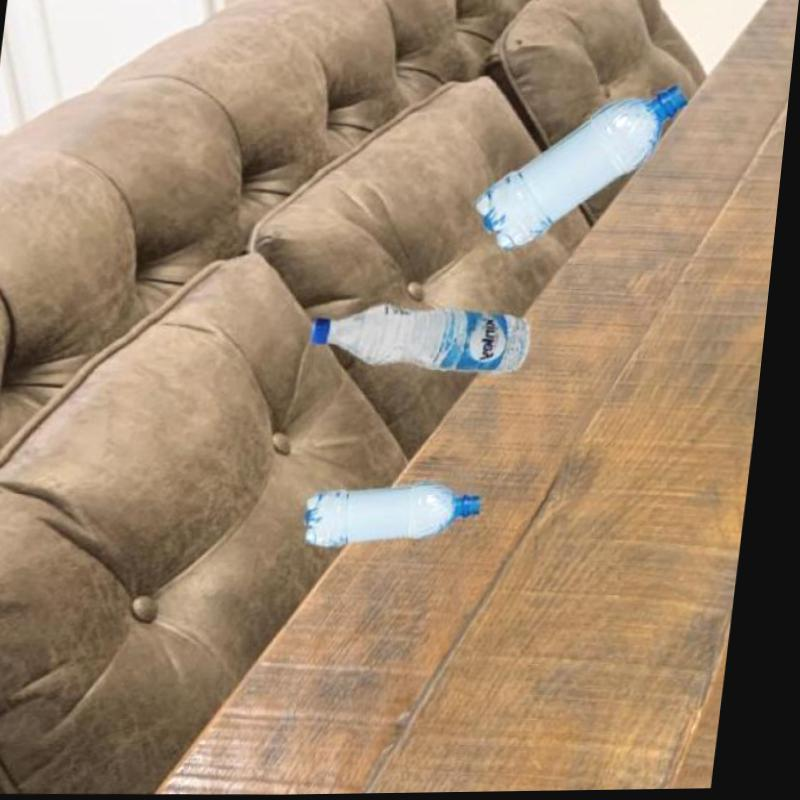botella: (474, 83, 692, 252), (314, 301, 540, 376), (312, 481, 494, 550)
